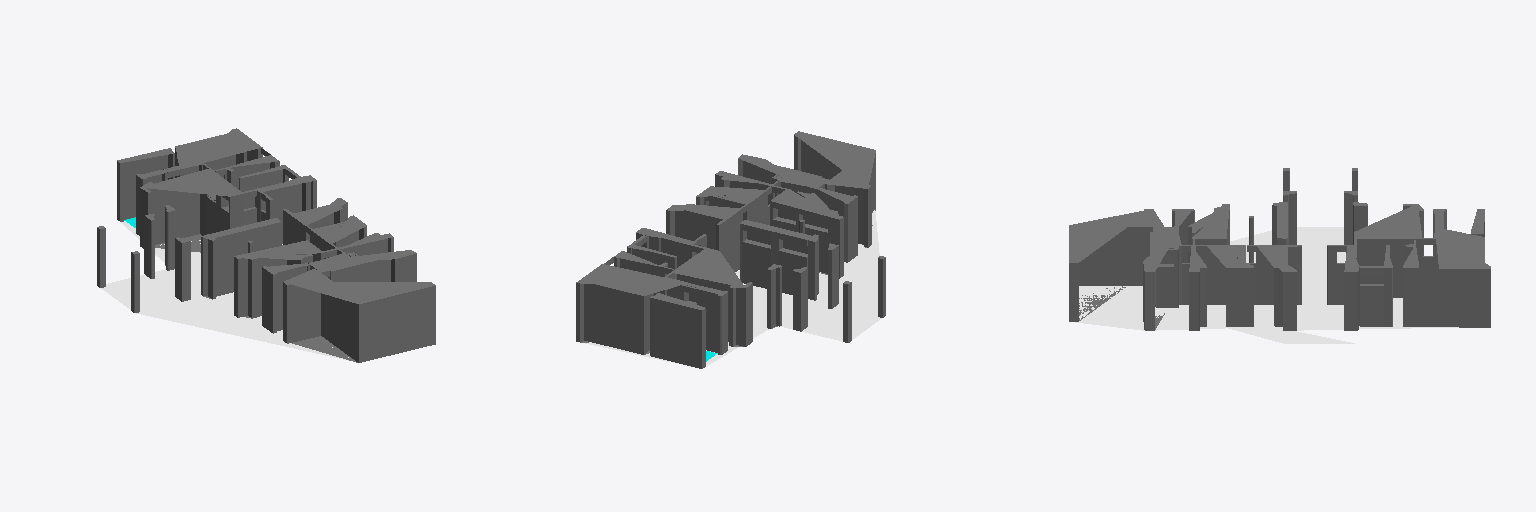
Rendered from 8fac7074-3673-4a5f-9896-c3b50aeb4306.obj.
The picture shows the model from 3 angles: view 1: azimuth 30°, elevation 25°; view 2: azimuth 150°, elevation 25°; view 3: azimuth 270°, elevation 25°; orthographic projection.
Parts seen in each view (by area): view 1: Floor, Box13Wall185, VertWalls27, Box17Wall263, Box13Wall184, Box14Wall199, VertWalls17, Box13Wall183, VertWalls29, Box10Wall149, Box7Wall97, VertWalls31 (+13 smaller); view 2: Floor, Box8Wall129, Box10Wall155, VertWalls27, VertWalls17, VertWalls29, Box3Wall43, Box57Wall229, Box3Wall46, VertWalls31, Box11Wall164, VertWalls15 (+6 smaller); view 3: Floor, Box13Wall190, Box8Wall126, VertWalls27, Box14Wall214, VertWalls17, Box4Wall56, VertWalls29, Box32Wall130, Box4Wall48, Box6Wall84, Box3Wall34 (+12 smaller).
Part boxes in pixels (left/top/right/bottom): Floor: left=101, top=221, right=348, bottom=360; Box13Wall185: left=359, top=286, right=435, bottom=362; VertWalls27: left=284, top=269, right=435, bottom=303; Box17Wall263: left=215, top=222, right=281, bottom=296; Box13Wall184: left=321, top=293, right=358, bottom=362; Box14Wall199: left=147, top=188, right=199, bottom=244; VertWalls17: left=175, top=128, right=261, bottom=168; Box13Wall183: left=287, top=284, right=320, bottom=343; VertWalls29: left=140, top=168, right=243, bottom=196; Box10Wall149: left=124, top=155, right=167, bottom=219; Box7Wall97: left=331, top=260, right=390, bottom=281; VertWalls31: left=234, top=240, right=323, bottom=259; Floor: left=585, top=210, right=881, bottom=367; Box8Wall129: left=584, top=284, right=643, bottom=354; Box10Wall155: left=650, top=298, right=701, bottom=368; VertWalls27: left=794, top=131, right=875, bottom=188; VertWalls17: left=576, top=264, right=687, bottom=295; VertWalls29: left=671, top=248, right=751, bottom=287; Box3Wall43: left=675, top=210, right=722, bottom=253; Box57Wall229: left=742, top=242, right=770, bottom=288; Box3Wall46: left=719, top=209, right=742, bottom=271; VertWalls31: left=771, top=189, right=842, bottom=219; Box11Wall164: left=697, top=289, right=717, bottom=352; VertWalls15: left=738, top=154, right=821, bottom=185; Floor: left=1075, top=227, right=1458, bottom=343; Box13Wall190: left=1079, top=227, right=1152, bottom=285; Box8Wall126: left=1439, top=269, right=1490, bottom=327; VertWalls27: left=1069, top=209, right=1163, bottom=262; Box14Wall214: left=1357, top=239, right=1422, bottom=297; VertWalls17: left=1434, top=228, right=1490, bottom=268; Box4Wall56: left=1226, top=268, right=1253, bottom=326; VertWalls29: left=1354, top=204, right=1423, bottom=238; Box32Wall130: left=1360, top=286, right=1383, bottom=326; Box4Wall48: left=1205, top=246, right=1225, bottom=304; Box6Wall84: left=1403, top=268, right=1418, bottom=326; Box3Wall34: left=1256, top=246, right=1273, bottom=304.
Size of the model in its own units: 10.66 by 2.5 by 16.24.